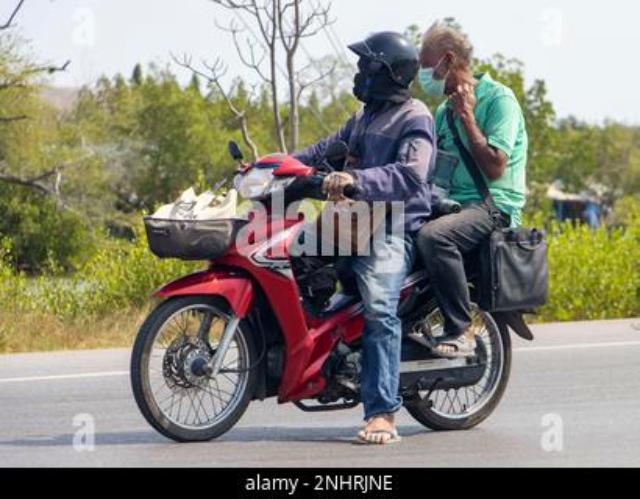helm: (348, 33, 421, 105)
motor: (132, 140, 513, 446)
non-helm: (421, 22, 475, 93)
